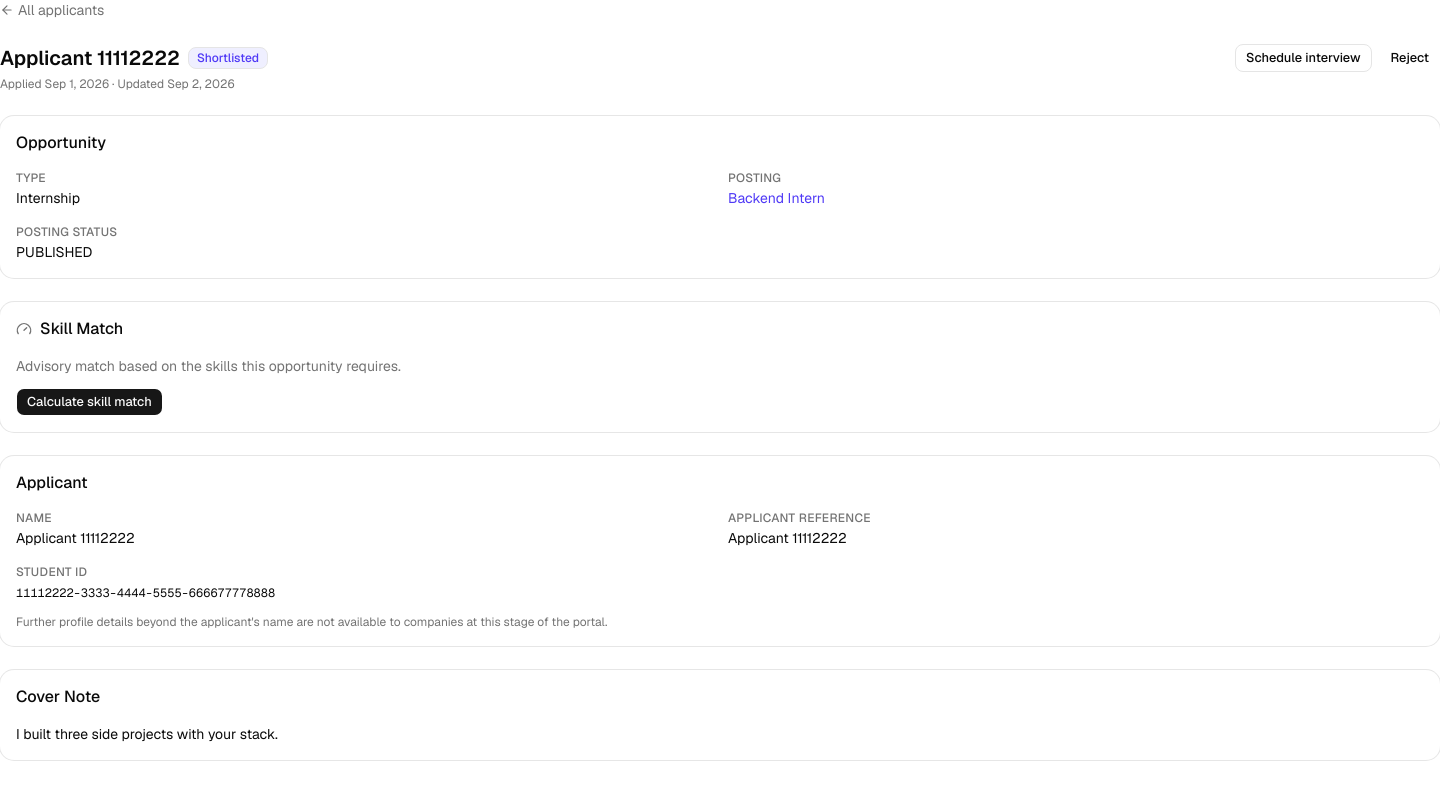
Test: ApplicationDetailView › moves the application to a new status via the confirmation dialog
Expected: the heading "Applicant 11112222" is shown, [0,44,180,72]
Click the button "Schedule interview".
click(1303, 58)  # box [1235,44,1372,72]
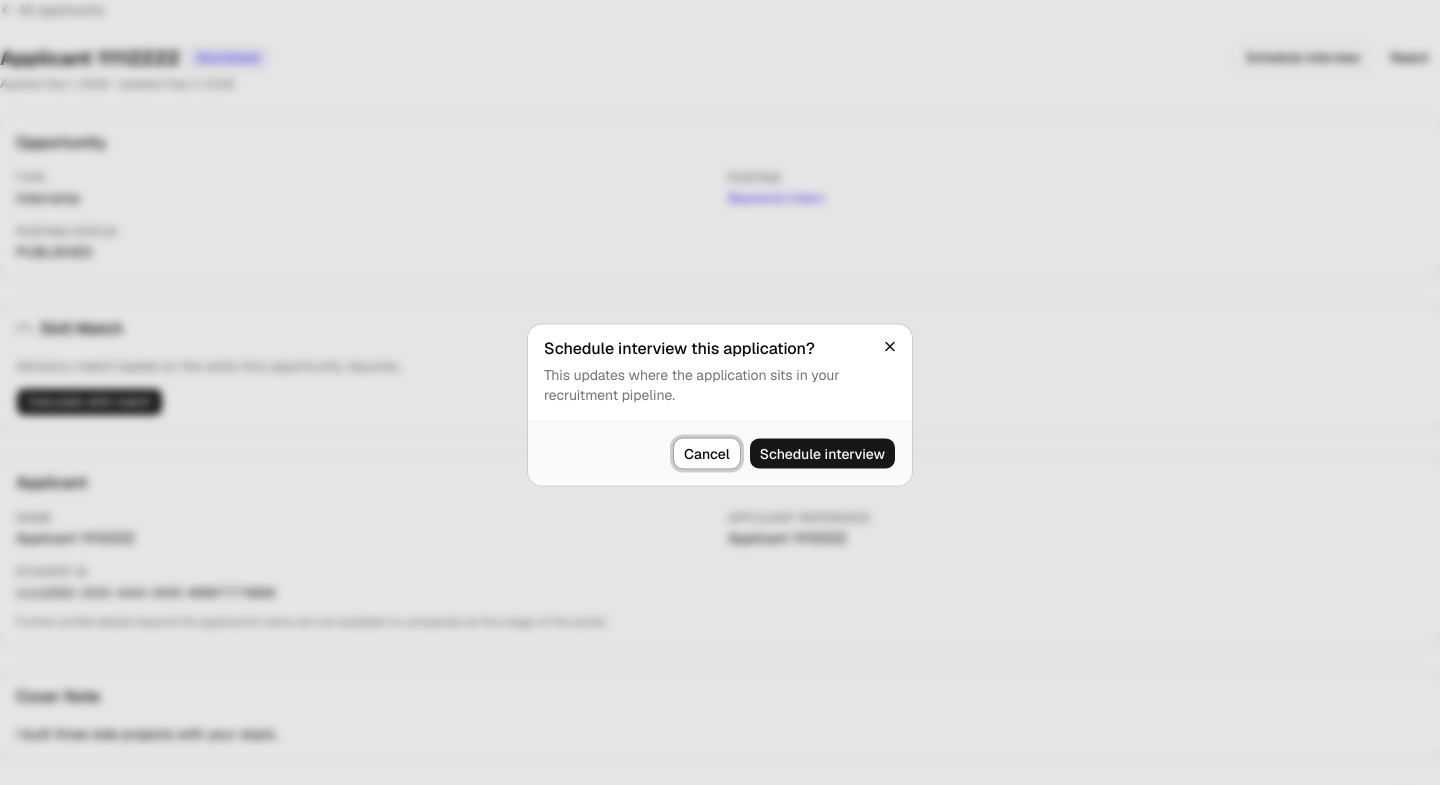
Click the button "Schedule interview".
click(822, 454)  # box [749,438,896,470]
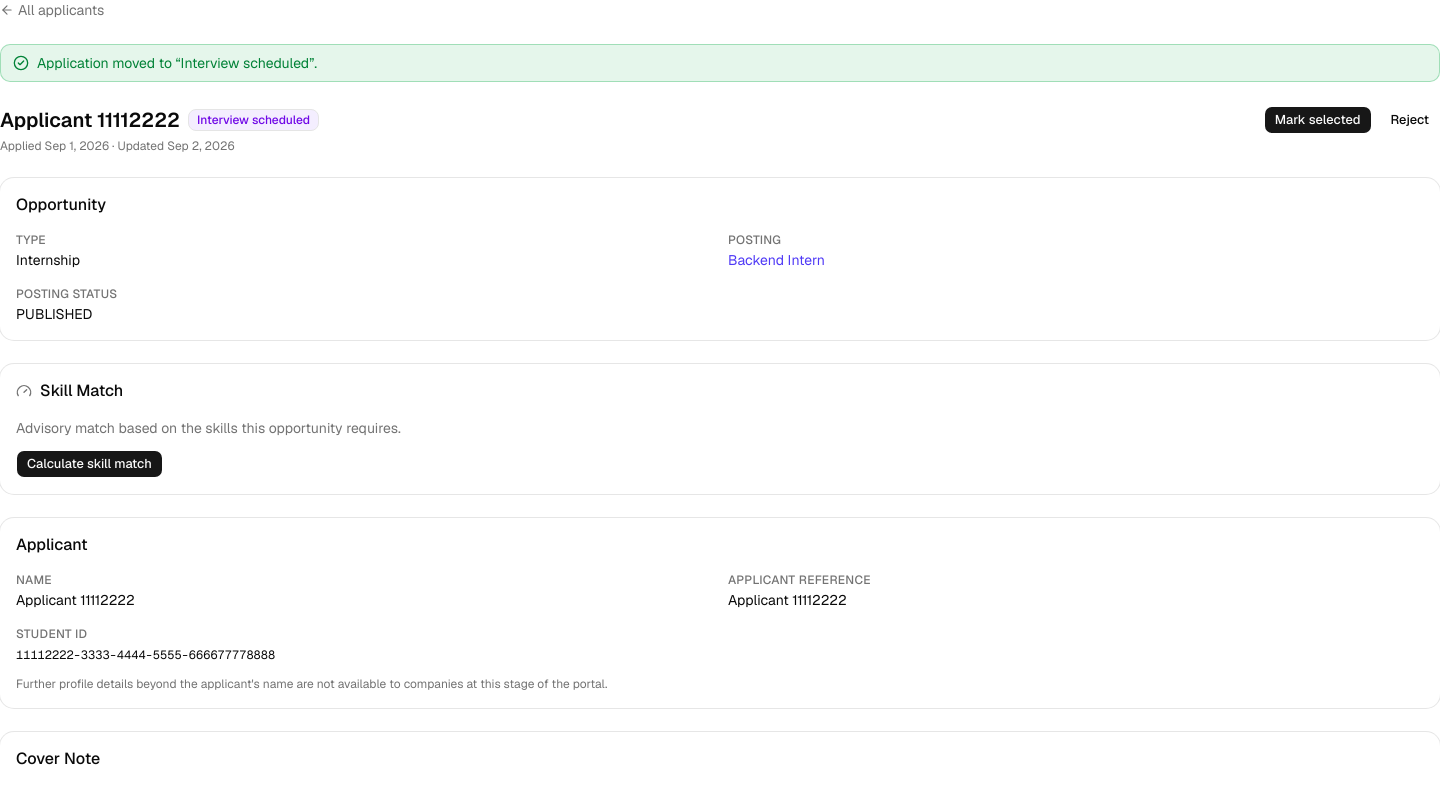
Now the text "Application moved to “Interview scheduled”." is shown, box [37,53,317,73]
Now the text "Interview scheduled" is shown, box [188,109,319,131]
